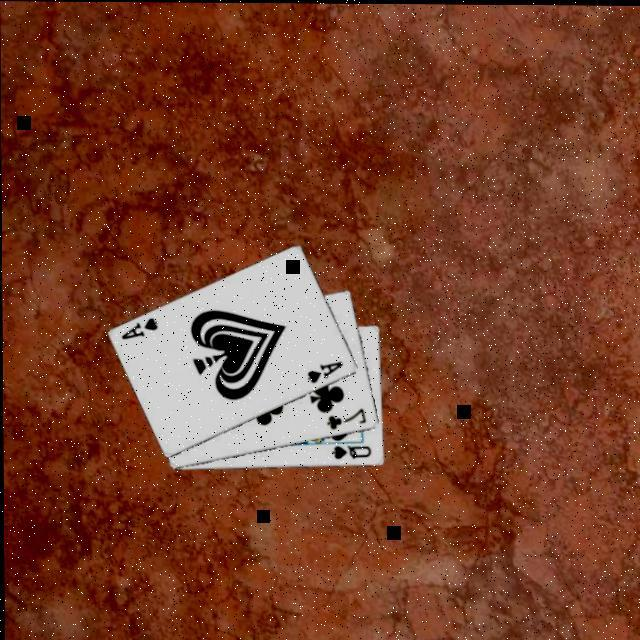7C: (325, 405, 371, 433)
AS: (306, 359, 348, 387), (120, 315, 162, 343)
QS: (330, 442, 376, 462)
